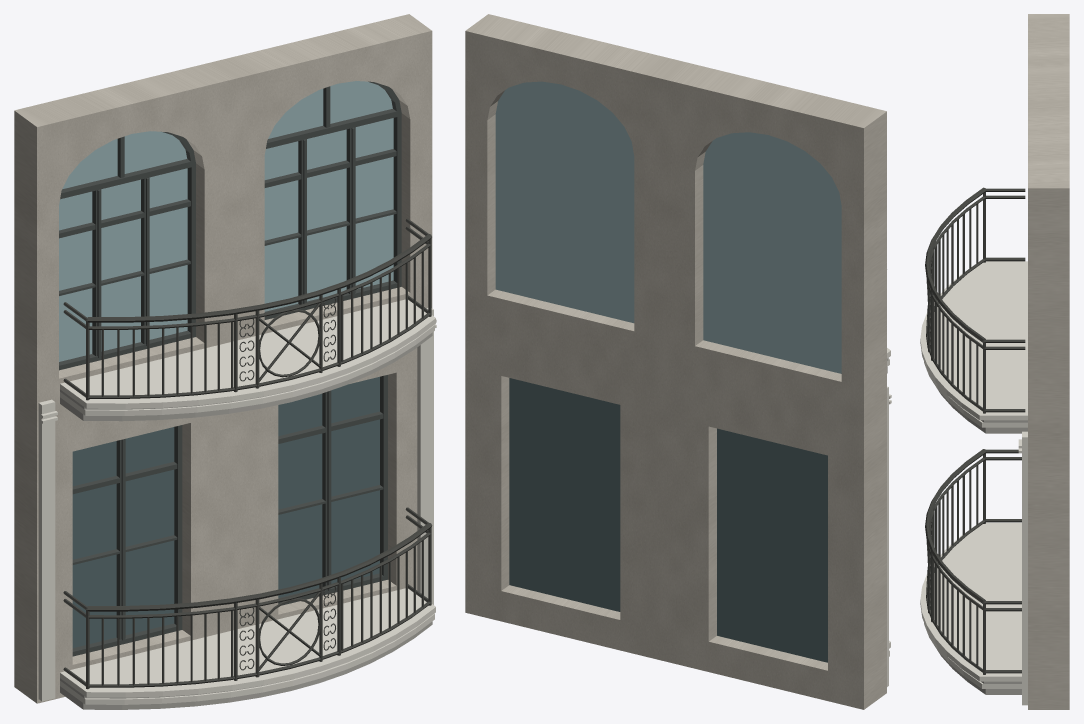
Rendered from inland-mission-curved-iron-balconies-far.glb.
The picture shows the model from 3 angles, left to right: view 1: azimuth 30°, elevation 25°; view 2: azimuth 150°, elevation 25°; view 3: azimuth 270°, elevation 25°; orthographic projection. The views are drawn at different scales.
Visible parts, largest first — view 1: 基督教内地会旧址北楼弧形挑台与交叉圆环铁栏; view 2: 基督教内地会旧址北楼弧形挑台与交叉圆环铁栏; view 3: 基督教内地会旧址北楼弧形挑台与交叉圆环铁栏.
Boxes of the visible parts, x1,y1,x2,y2 form: 基督教内地会旧址北楼弧形挑台与交叉圆环铁栏: (14,14,436,709); 基督教内地会旧址北楼弧形挑台与交叉圆环铁栏: (465,14,891,709); 基督教内地会旧址北楼弧形挑台与交叉圆环铁栏: (920,14,1069,709).
Bounding box in the file's own units: 3.88 × 5.41 × 1.4.
Materials: 7 (1 with a texture image).
